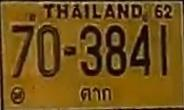0: (36, 24, 60, 76)
1: (160, 24, 166, 75)
3: (80, 25, 101, 74)
4: (130, 24, 150, 74)
7: (11, 24, 33, 77)
8: (105, 25, 125, 74)
TAK: (78, 85, 114, 104)
